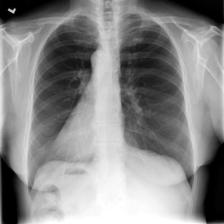normal: (23, 11, 196, 203)
